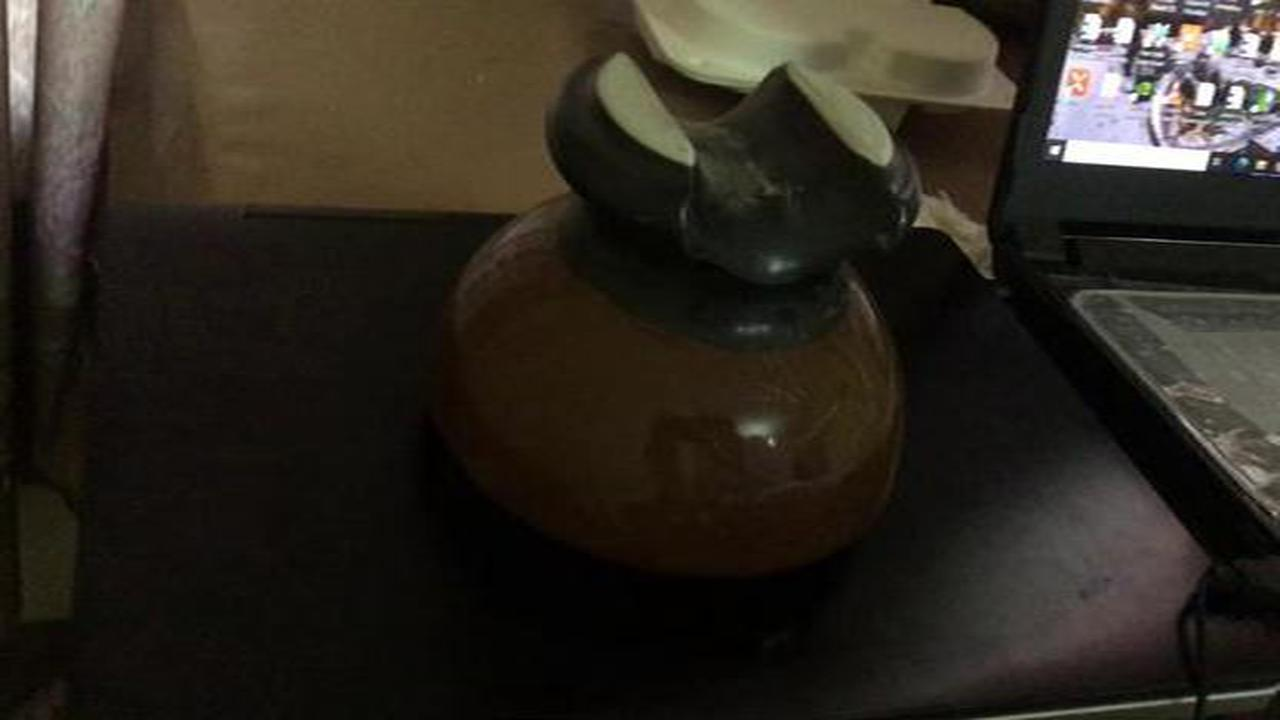insulator_pin: (407, 35, 970, 589)
